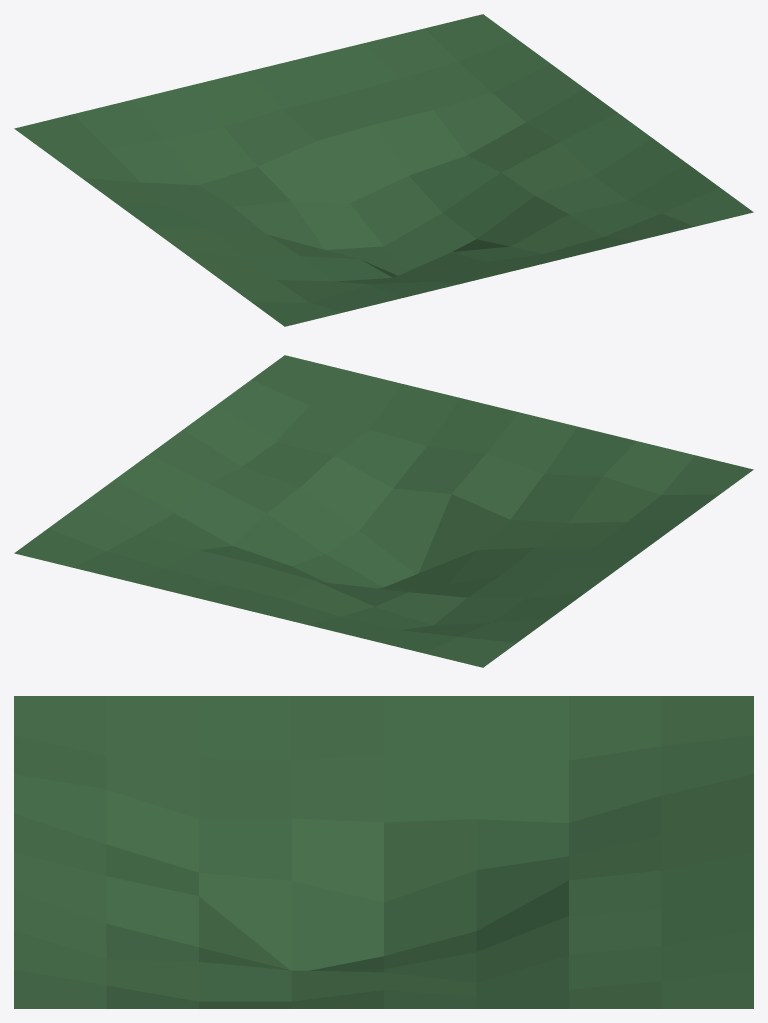
Rendered from Terrain_8_Light_Green.fbx.
3 renders of one model, top to bottom at view 1: azimuth 30°, elevation 25°; view 2: azimuth 150°, elevation 25°; view 3: azimuth 270°, elevation 25°, orthographic. The views are drawn at different scales.
Visible parts, largest first — view 1: Terrain_8_Light_Green; view 2: Terrain_8_Light_Green; view 3: Terrain_8_Light_Green.
Part boxes in pixels (x1=…): Terrain_8_Light_Green: x1=14, y1=14, x2=753, y2=326; Terrain_8_Light_Green: x1=14, y1=355, x2=753, y2=667; Terrain_8_Light_Green: x1=14, y1=696, x2=753, y2=1008.
Bounding box in the file's own units: 4000 × 726 × 4000.
